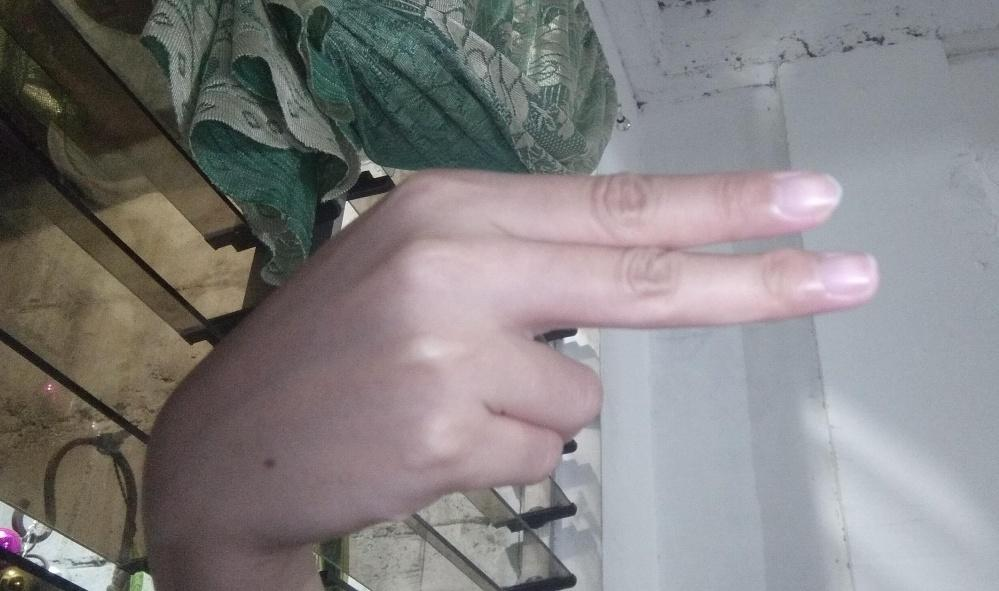h: (139, 166, 883, 550)
